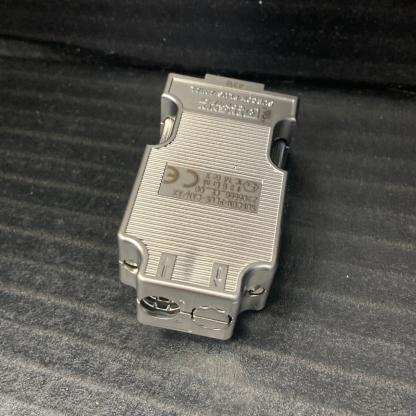SP0000010: (78, 37, 333, 355)
